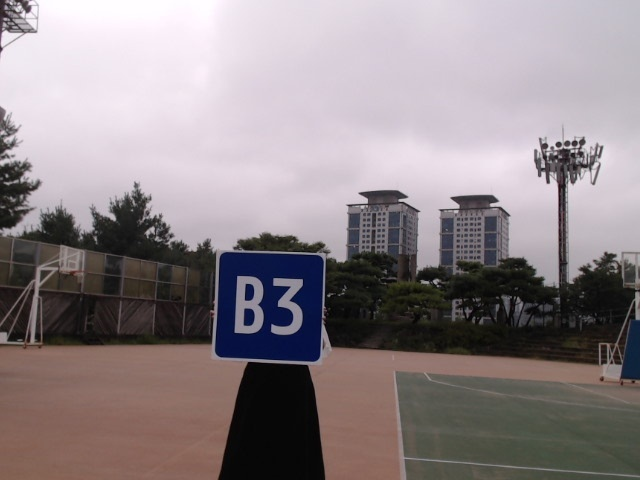delivery_b3: (217, 250, 324, 363)
